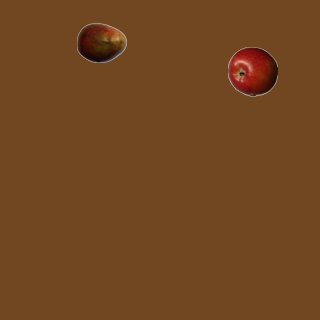Apple Braeburn: (227, 46, 277, 96)
Mango Red: (76, 17, 126, 67)
